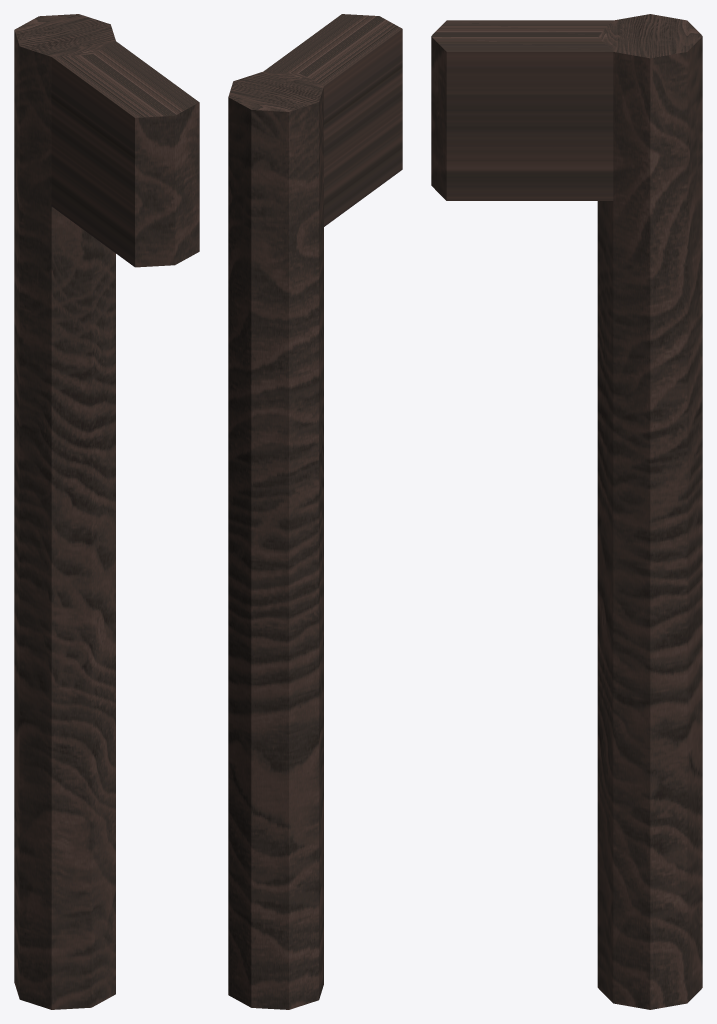
Rendered from baton.glb.
3 renders of one model, left to right at view 1: azimuth 30°, elevation 25°; view 2: azimuth 150°, elevation 25°; view 3: azimuth 270°, elevation 25°, orthographic. The views are drawn at different scales.
Parts seen in each view (by area): view 1: Baton; view 2: Baton; view 3: Baton.
Boxes of the visible parts, x1,y1,x2,y2 form: Baton: (14, 14, 199, 1009); Baton: (228, 14, 402, 1009); Baton: (431, 14, 702, 1009).
Size of what is drawn, in the model's own units: 0.08 by 0.8 by 0.207.
1 material, 1 textured.
